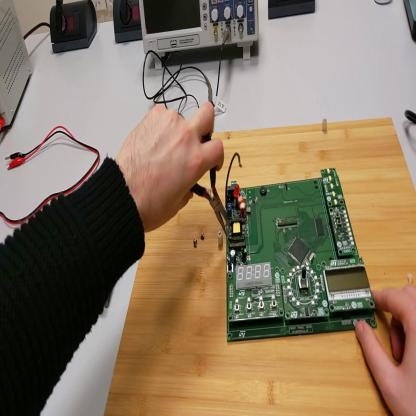hand: (120, 103, 223, 233), (357, 283, 416, 416)
low voltage board: (216, 160, 378, 350)
oscilloscope: (140, 1, 263, 71)
oscilloscope probe tip: (205, 75, 214, 103)
pliers: (191, 135, 232, 239)
power supply: (2, 4, 37, 132)
socket: (52, 2, 98, 52), (113, 1, 144, 45)
welder station: (406, 1, 416, 41)
working area: (105, 119, 416, 416)
